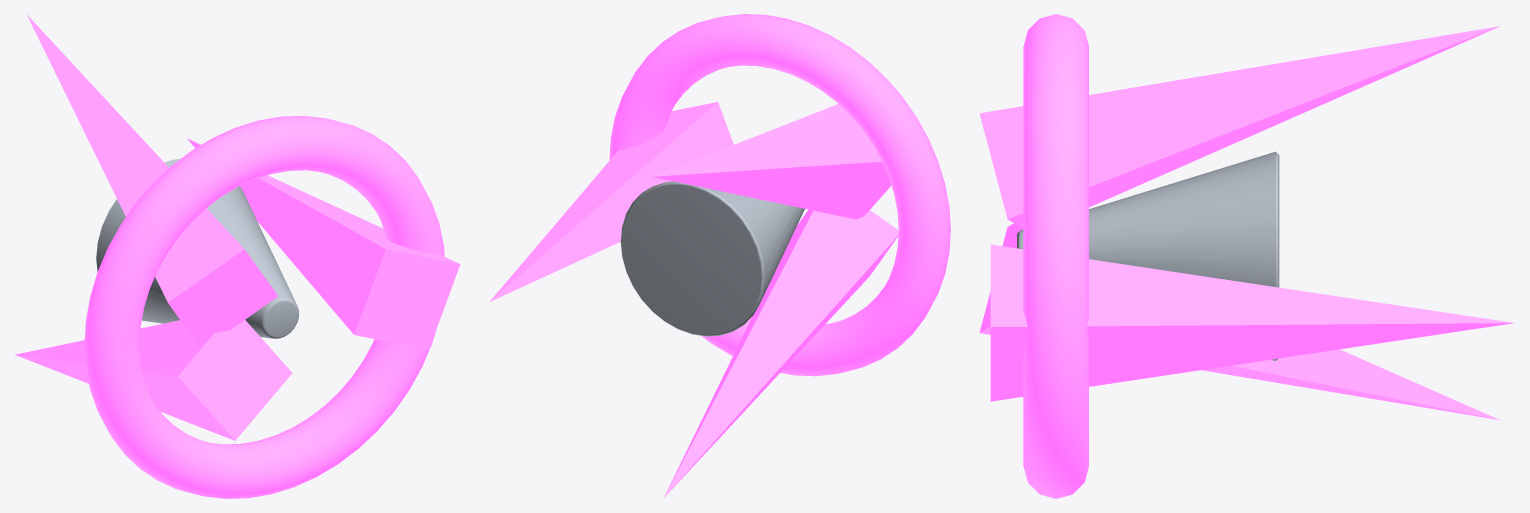
The model's file is vfx_muzzle_arc.glb.
3 renders of one model, left to right at view 1: azimuth 30°, elevation 25°; view 2: azimuth 150°, elevation 25°; view 3: azimuth 270°, elevation 25°, orthographic. The views are drawn at different scales.
Visible parts, largest first — view 1: vfx_muzzle_arc_ring, vfx_muzzle_arc_petal0, vfx_muzzle_arc_petal1, vfx_muzzle_arc_petal2, vfx_muzzle_arc_core; view 2: vfx_muzzle_arc_ring, vfx_muzzle_arc_core, vfx_muzzle_arc_petal2, vfx_muzzle_arc_petal1, vfx_muzzle_arc_petal0; view 3: vfx_muzzle_arc_petal0, vfx_muzzle_arc_ring, vfx_muzzle_arc_petal1, vfx_muzzle_arc_core, vfx_muzzle_arc_petal2.
Boxes of the visible parts, x1,y1,x2,y2 form: vfx_muzzle_arc_ring: (84, 116, 444, 498); vfx_muzzle_arc_petal0: (187, 138, 460, 349); vfx_muzzle_arc_petal1: (27, 15, 278, 346); vfx_muzzle_arc_petal2: (15, 320, 292, 440); vfx_muzzle_arc_core: (96, 158, 298, 338); vfx_muzzle_arc_ring: (609, 14, 950, 376); vfx_muzzle_arc_core: (620, 181, 804, 336); vfx_muzzle_arc_petal2: (663, 209, 898, 498); vfx_muzzle_arc_petal1: (652, 104, 891, 219); vfx_muzzle_arc_petal0: (489, 102, 733, 301); vfx_muzzle_arc_petal0: (990, 244, 1514, 401); vfx_muzzle_arc_ring: (1023, 14, 1088, 498); vfx_muzzle_arc_petal1: (979, 26, 1500, 227); vfx_muzzle_arc_core: (1017, 151, 1279, 361); vfx_muzzle_arc_petal2: (979, 223, 1500, 420).
Bounding box in the file's own units: 0.37 × 0.37 × 0.4085.
